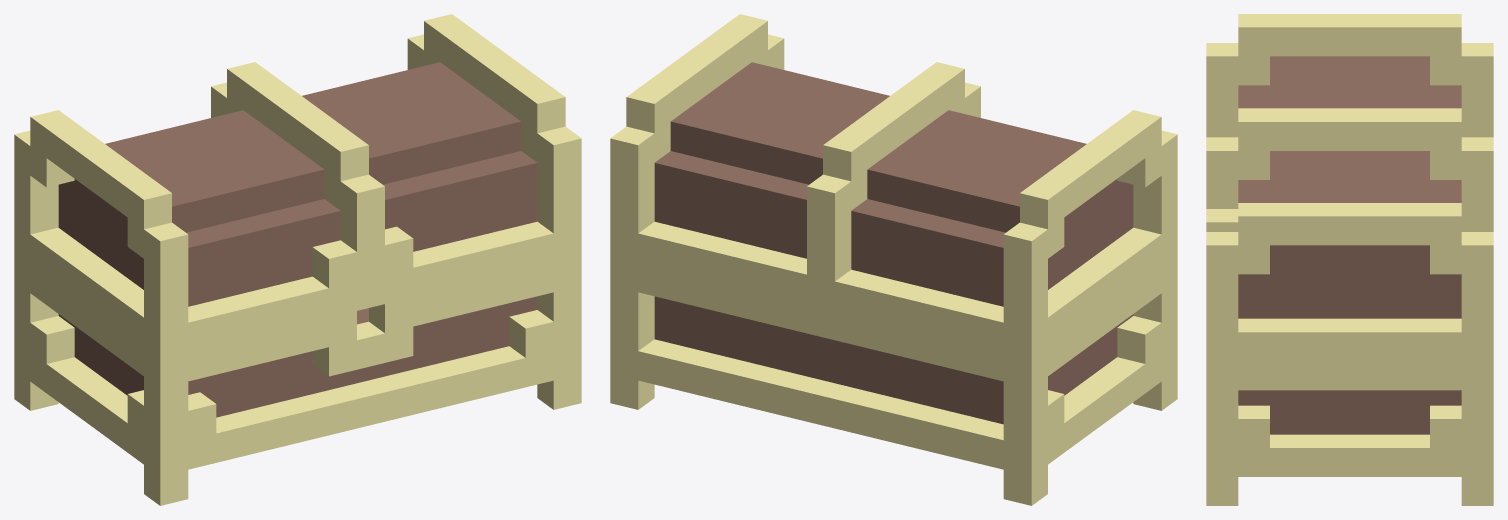
File: Chest_Gold.FBX
The picture shows the model from 3 angles, left to right: view 1: azimuth 30°, elevation 25°; view 2: azimuth 150°, elevation 25°; view 3: azimuth 270°, elevation 25°; orthographic projection.
Parts seen in each view (by area): view 1: l, Bottom; view 2: l, Bottom; view 3: l, Bottom.
Part boxes in pixels (left/top/right/bottom): l: left=14, top=14, right=581, bottom=358; Bottom: left=14, top=252, right=581, bottom=505; l: left=610, top=14, right=1177, bottom=358; Bottom: left=610, top=252, right=1177, bottom=505; l: left=1206, top=14, right=1493, bottom=361; Bottom: left=1206, top=361, right=1493, bottom=505.
Bounding box in the file's own units: 15 × 10 × 9.
